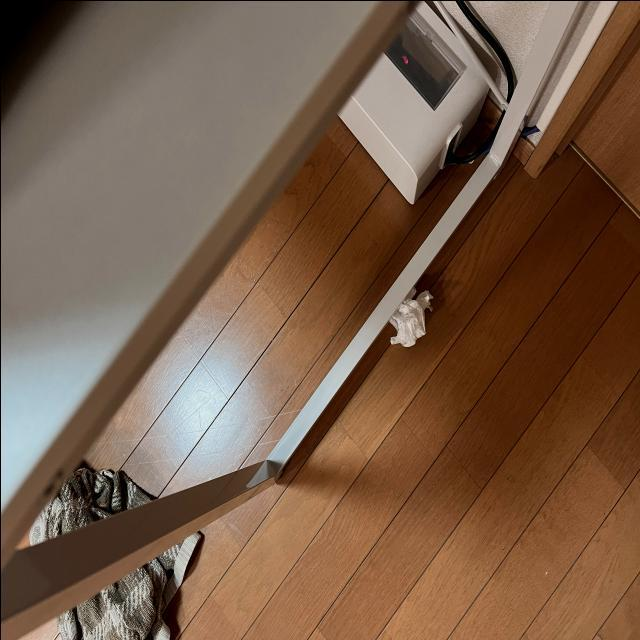Paper: (385, 283, 457, 372)
